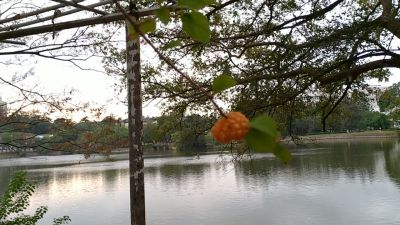eggs: (211, 110, 250, 147)
